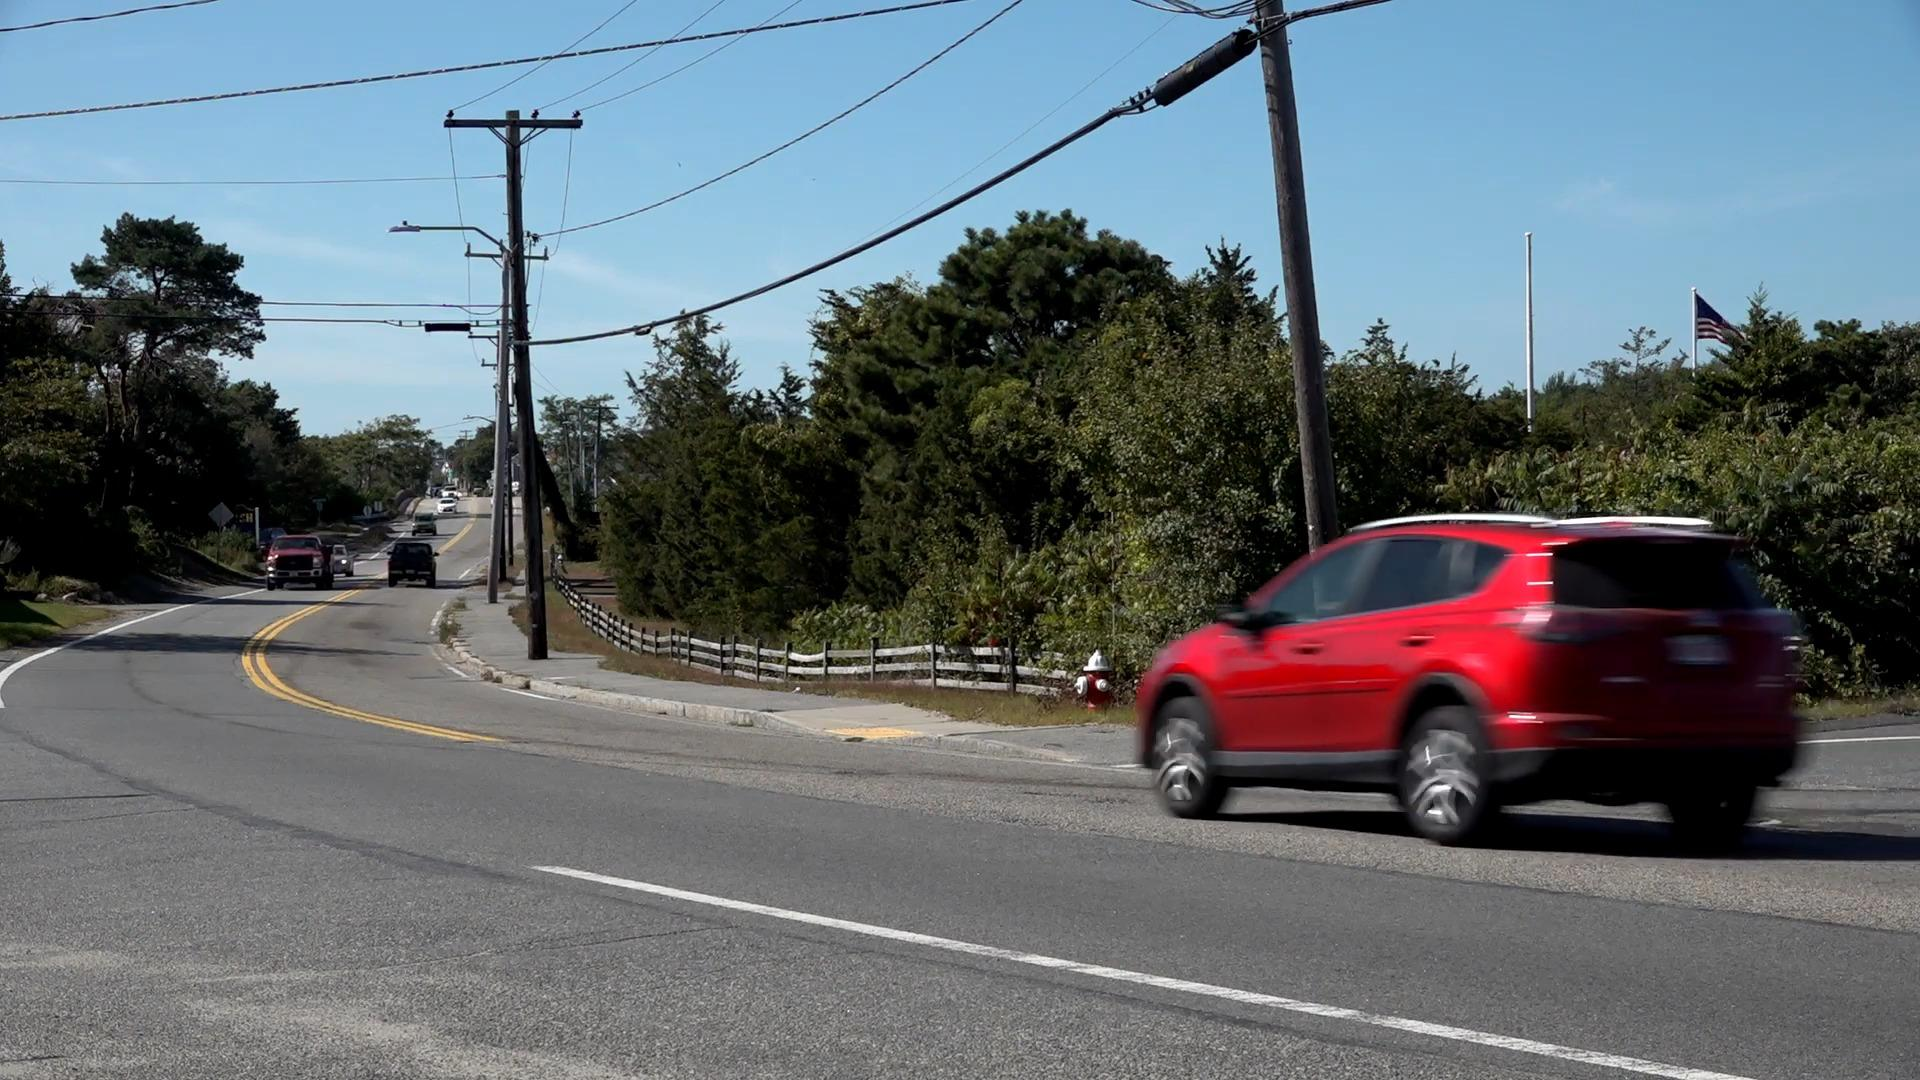pickup: (263, 537, 331, 591)
suv: (1133, 521, 1793, 840), (386, 542, 438, 586)
